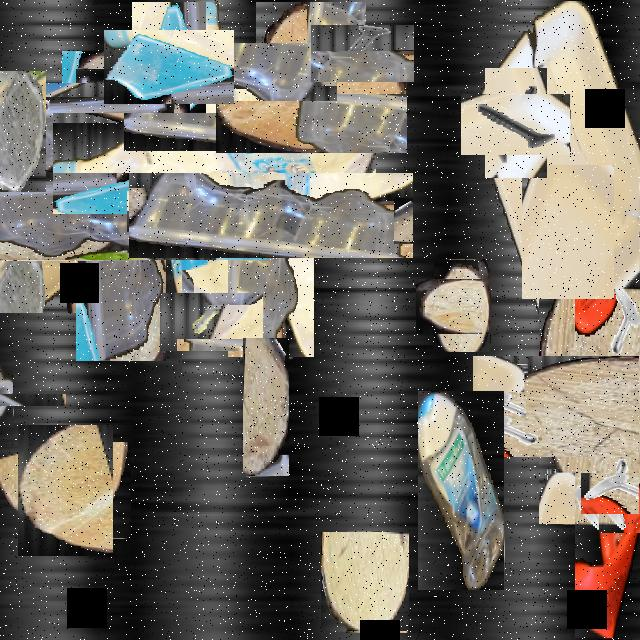glass: (118, 16, 220, 119), (0, 71, 46, 192)
metal: (473, 81, 559, 168), (170, 282, 252, 362), (323, 13, 403, 94), (539, 261, 585, 343), (136, 182, 194, 241), (589, 464, 640, 523)
plastic: (482, 2, 640, 340), (109, 57, 321, 270), (25, 120, 216, 310), (178, 122, 364, 308), (418, 391, 504, 590), (0, 149, 111, 287), (575, 471, 640, 638), (0, 366, 39, 433)
wood: (236, 23, 386, 174), (505, 323, 640, 490), (46, 68, 174, 196), (9, 434, 122, 547), (522, 166, 614, 300), (321, 532, 409, 631), (243, 338, 289, 476), (425, 269, 499, 343), (617, 205, 640, 250)
